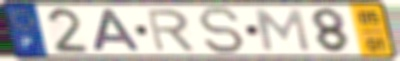2: (44, 6, 92, 55)
8: (309, 7, 352, 55)
A: (91, 7, 144, 53)
M: (253, 8, 313, 53)
R: (144, 8, 198, 54)
S: (195, 6, 248, 56)
